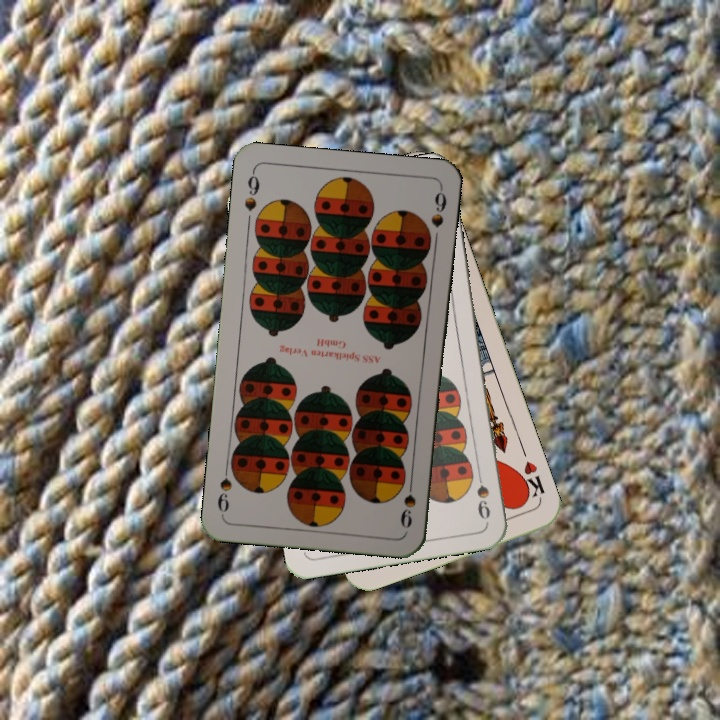HK: (513, 456, 548, 504)
S9: (396, 473, 419, 531), (473, 464, 493, 522), (241, 167, 263, 214)
